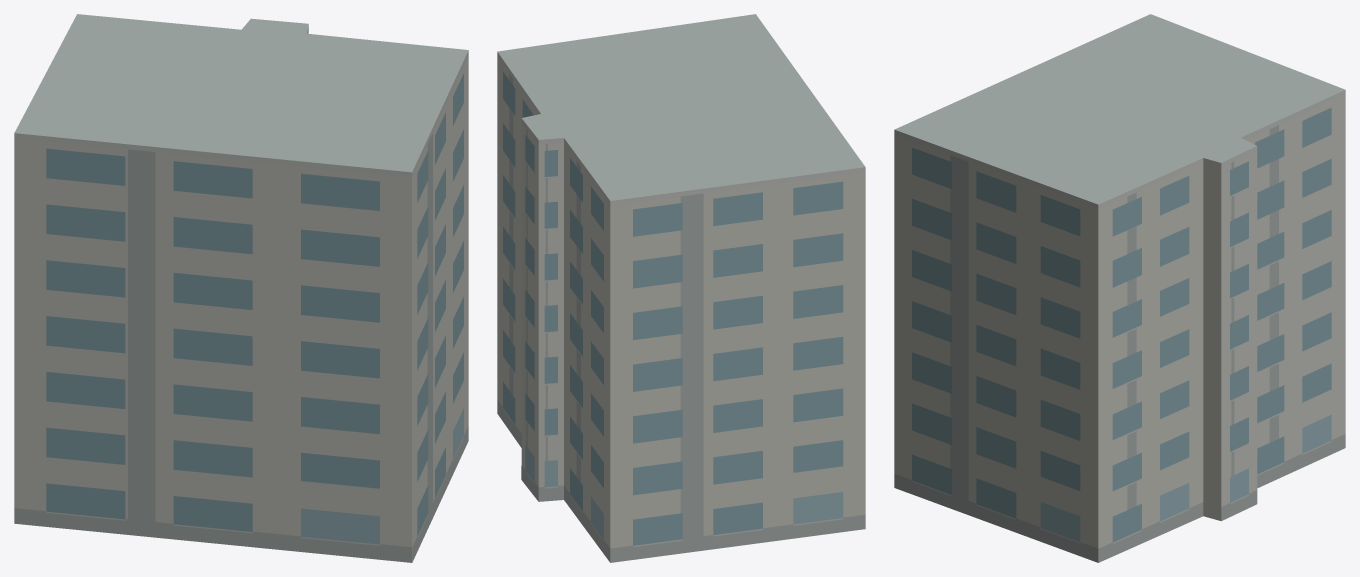
File: survey-upis-32684546.glb
The picture shows the model from 3 angles, left to right: view 1: azimuth 30°, elevation 25°; view 2: azimuth 150°, elevation 25°; view 3: azimuth 270°, elevation 25°; orthographic projection. The views are drawn at different scales.
Visible parts, largest first — view 1: survey-upis-32684546.tmp; view 2: survey-upis-32684546.tmp; view 3: survey-upis-32684546.tmp.
Boxes of the visible parts, x1,y1,x2,y2 form: survey-upis-32684546.tmp: (14,14,468,562); survey-upis-32684546.tmp: (497,14,865,562); survey-upis-32684546.tmp: (894,14,1345,562).
Bounding box in the file's own units: 20.94 × 18.34 × 20.94.
